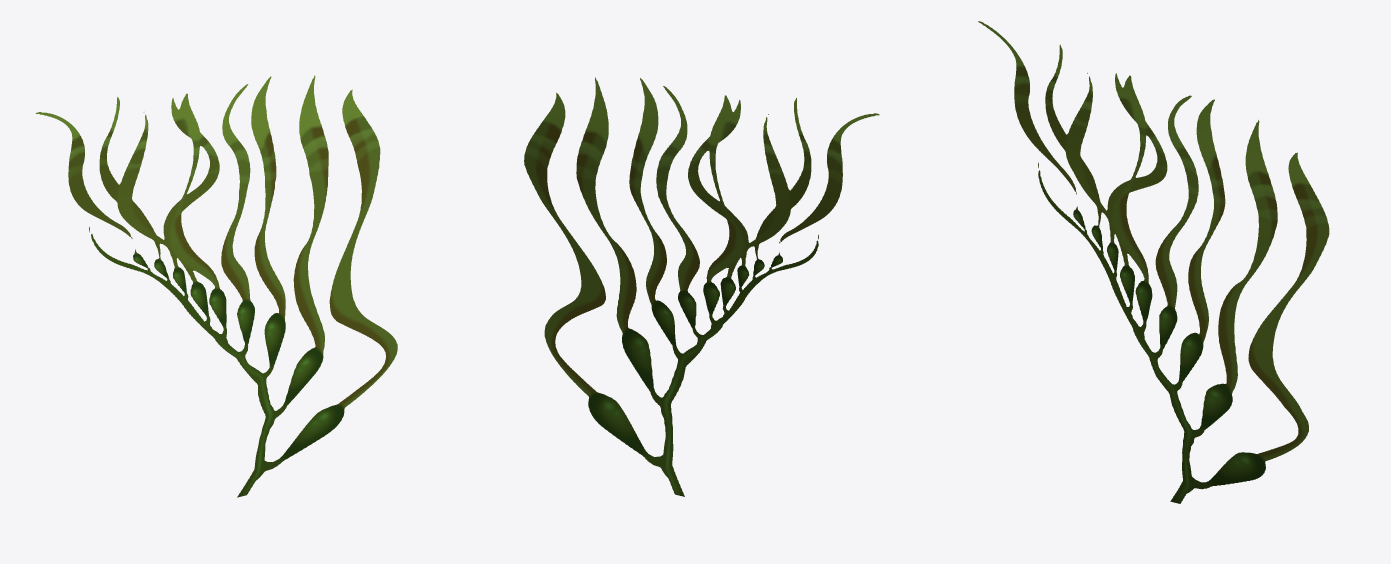
File: SeaWeed_03.FBX
3 renders of one model, left to right at view 1: azimuth 30°, elevation 25°; view 2: azimuth 150°, elevation 25°; view 3: azimuth 330°, elevation 25°, orthographic.
Visible parts, largest first — view 1: SeaWeed_03; view 2: SeaWeed_03; view 3: SeaWeed_03.
Part boxes in pixels (left/top/right/bottom): SeaWeed_03: left=35, top=75, right=397, bottom=497; SeaWeed_03: left=524, top=77, right=879, bottom=496; SeaWeed_03: left=978, top=21, right=1329, bottom=503.
Size of the model in its own units: 30.37 by 30.37 by 2.58.
